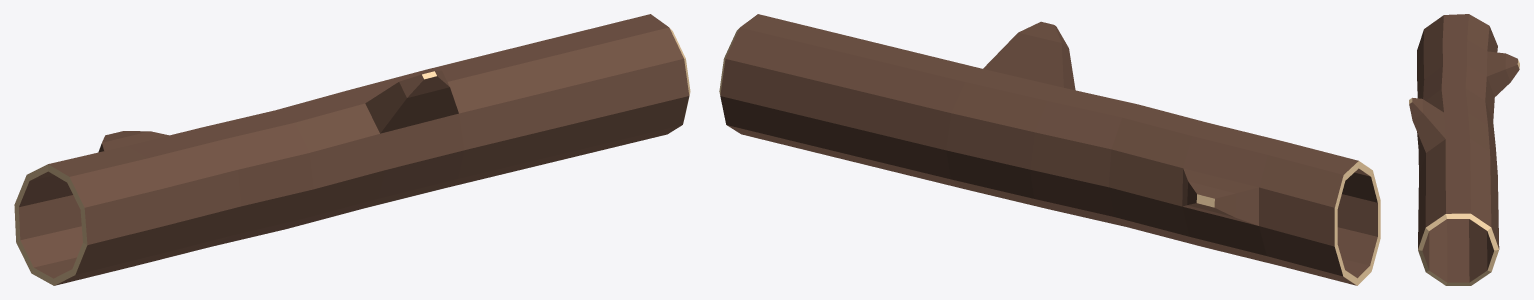
The model's file is Log.fbx.
The picture shows the model from 3 angles, left to right: view 1: azimuth 30°, elevation 25°; view 2: azimuth 150°, elevation 25°; view 3: azimuth 270°, elevation 25°; orthographic projection. The views are drawn at different scales.
Parts seen in each view (by area): view 1: Log; view 2: Log; view 3: Log.
Boxes of the visible parts, x1=… form: Log: x1=14, y1=14, x2=690, y2=285; Log: x1=719, y1=14, x2=1380, y2=285; Log: x1=1409, y1=14, x2=1519, y2=285.
Size of the model in its own units: 374 by 83.36 by 84.35.
